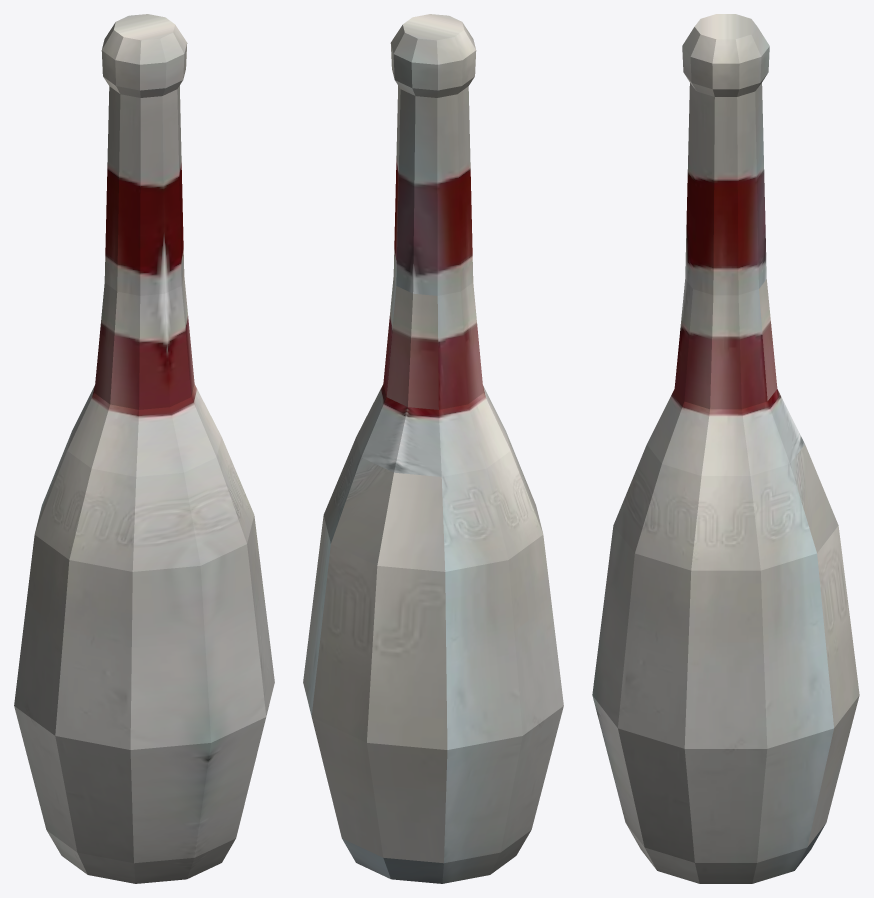
Rendered from juggling pin.glb.
The picture shows the model from 3 angles, left to right: view 1: azimuth 30°, elevation 25°; view 2: azimuth 150°, elevation 25°; view 3: azimuth 270°, elevation 25°; orthographic projection.
Visible parts, largest first — view 1: Cube; view 2: Cube; view 3: Cube.
Boxes of the visible parts, x1=… form: Cube: x1=14, y1=14, x2=274, y2=883; Cube: x1=303, y1=14, x2=563, y2=883; Cube: x1=592, y1=14, x2=859, y2=883.
Size of the model in its own units: 2.99 by 10.69 by 3.15.
1 material, 1 textured.
